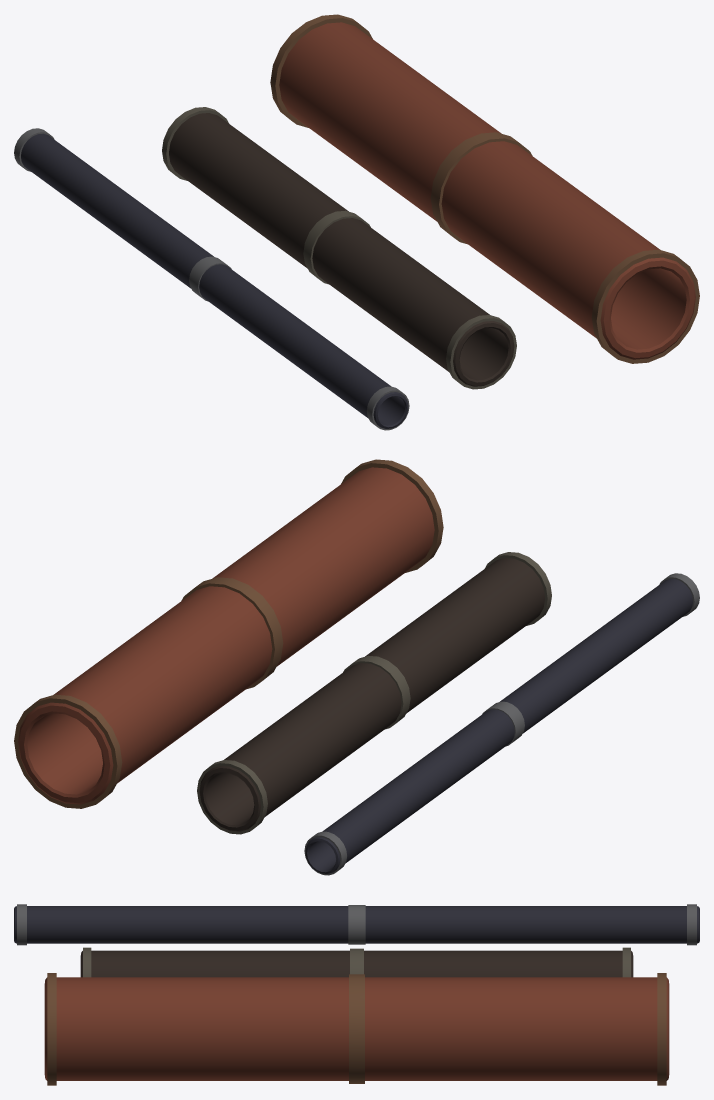
File: pipes.fbx
The picture shows the model from 3 angles, top to bottom: view 1: azimuth 30°, elevation 25°; view 2: azimuth 150°, elevation 25°; view 3: azimuth 270°, elevation 25°; orthographic projection. The views are drawn at different scales.
Parts seen in each view (by area): view 1: pPipe3, pPipe1, pPipe2; view 2: pPipe3, pPipe1, pPipe2; view 3: pPipe3, pPipe2, pPipe1.
Part boxes in pixels (x1,y1,x2,y2): pPipe3: (270, 14, 699, 363); pPipe1: (162, 107, 516, 389); pPipe2: (14, 128, 409, 430); pPipe3: (14, 459, 443, 808); pPipe1: (197, 552, 551, 834); pPipe2: (304, 573, 699, 875); pPipe3: (44, 973, 669, 1085); pPipe2: (14, 904, 699, 945); pPipe1: (80, 947, 633, 977).
Size of the model in its own units: 11.17 by 3.49 by 20.33.
